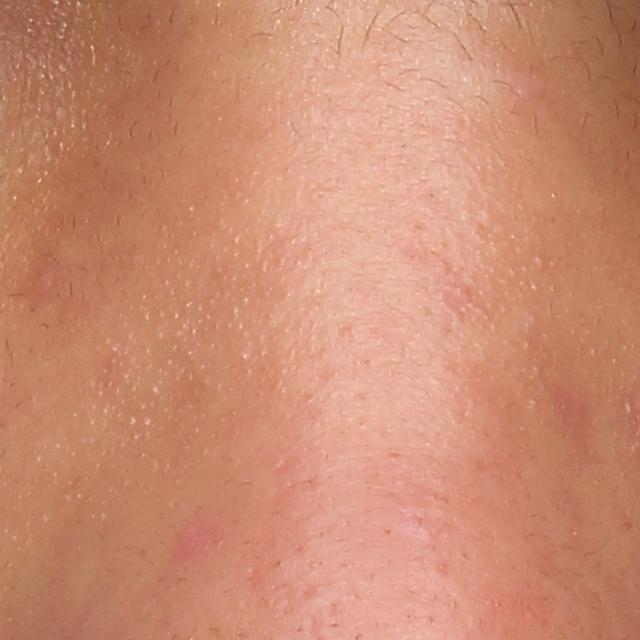papule: (26, 265, 60, 299)
